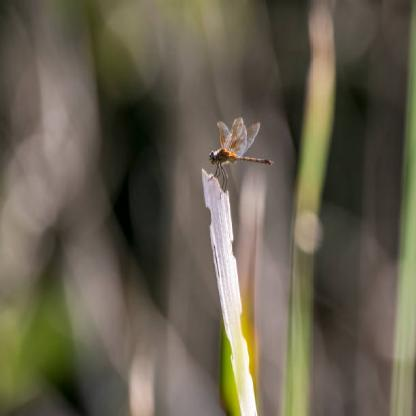sawfly: (200, 104, 280, 195)
